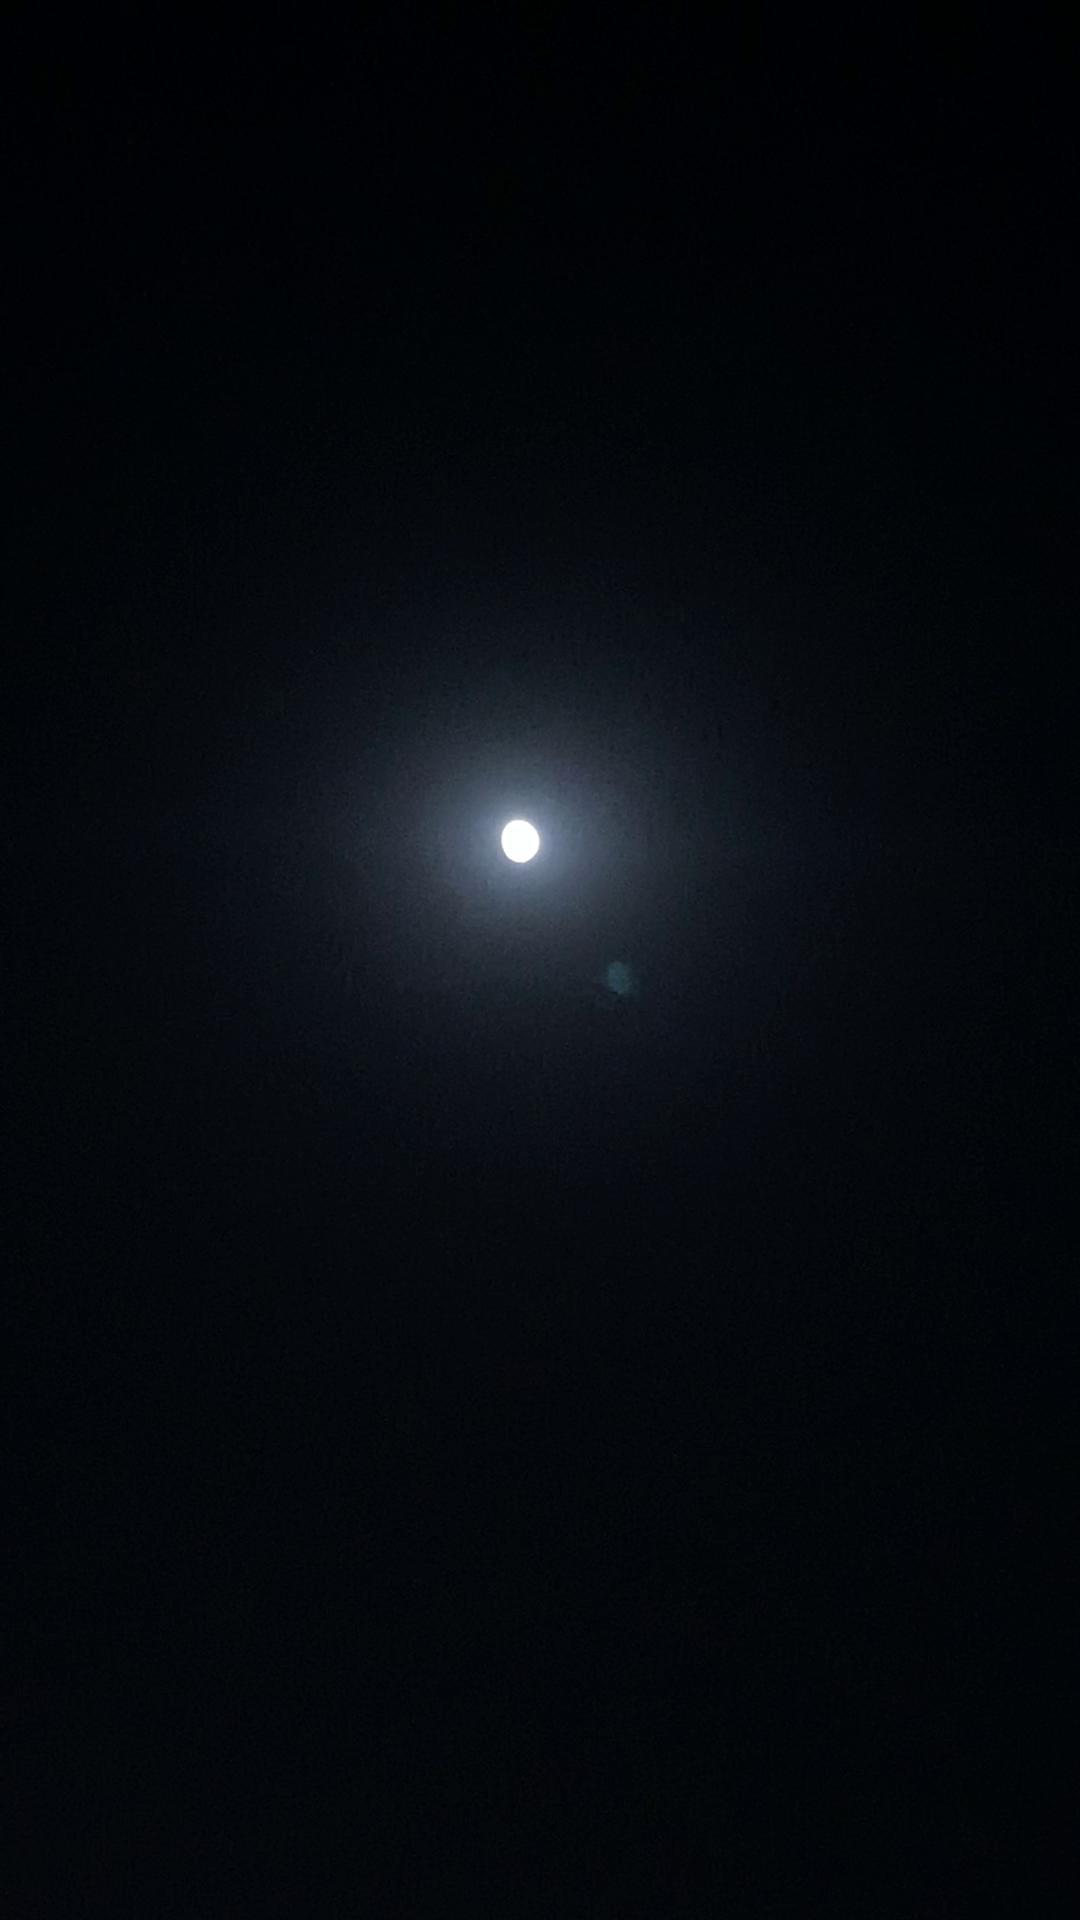moon: (483, 799, 568, 894)
